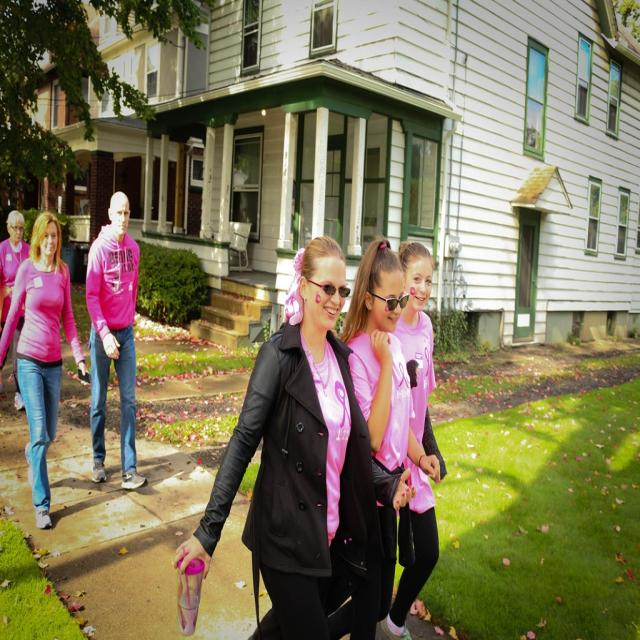body: (170, 234, 382, 639), (336, 233, 434, 639), (0, 207, 94, 532), (375, 238, 449, 638), (82, 187, 154, 495), (0, 209, 31, 414)
